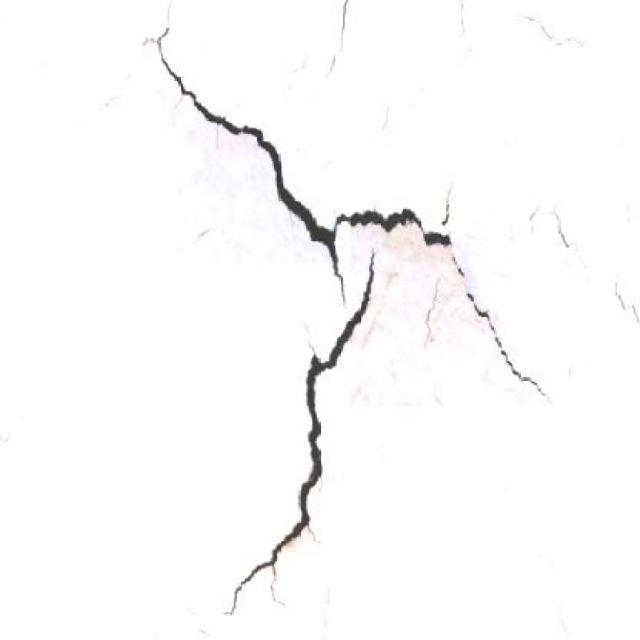Crack: (120, 25, 570, 618)
